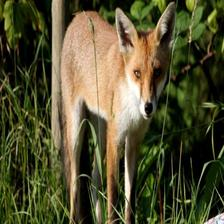fox: (41, 4, 175, 224)
